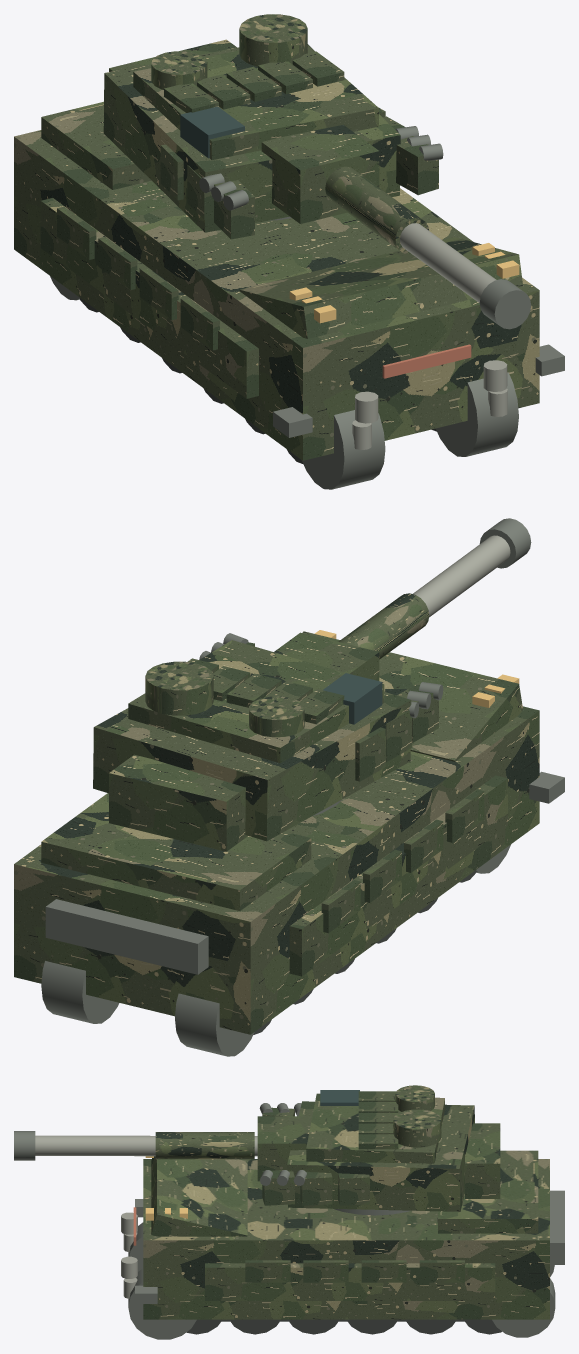
The picture shows the model from 3 angles, top to bottom: view 1: azimuth 30°, elevation 25°; view 2: azimuth 150°, elevation 25°; view 3: azimuth 270°, elevation 25°; orthographic projection. The views are drawn at different scales.
Visible parts, largest first — view 1: Armored hull / cast steel, Sloped glacis plate, Low-profile turret base, Turret roof armor, Side skirt / modular armor, Drive sprocket (×2), Gun mantlet, Relikt ERA roof tile (×5), Side reactive armor tile (×4), ERA block / turret cheek (×4), Rear engine deck, Thermal sleeve (+9 smaller); view 2: Armored hull / cast steel, Low-profile turret base, Rear engine deck, Rear bustle storage, Turret roof armor, Side skirt / modular armor, Sloped glacis plate, Exhaust heat shield, Idler wheel (×2), Side reactive armor tile (×4), Commander cupola, ERA block / turret cheek (×3) (+8 smaller); view 3: Armored hull / cast steel, Low-profile turret base, Side skirt / modular armor, Sloped glacis plate, Rear engine deck, Turret roof armor, Side reactive armor tile (×4), Road wheel / replaceable (×6), ERA block / turret cheek (×3), Thermal sleeve, 125 mm main gun, Rear bustle storage (+12 smaller).
Boxes of the visible parts, x1,y1,x2,y2 form: Armored hull / cast steel: (14, 130, 539, 460); Sloped glacis plate: (239, 237, 523, 338); Low-profile turret base: (103, 44, 400, 232); Turret roof armor: (133, 45, 378, 159); Side skirt / modular armor: (40, 198, 258, 398); Drive sprocket (×2): (301, 372, 518, 489); Gun mantlet: (261, 124, 379, 223); Relikt ERA roof tile (×5): (164, 51, 344, 112); Side reactive armor tile (×4): (57, 206, 219, 350); ERA block / turret cheek (×4): (160, 136, 438, 239); Rear engine deck: (41, 101, 151, 189); Thermal sleeve: (325, 166, 428, 254); Armored hull / cast steel: (14, 706, 539, 1034); Low-profile turret base: (93, 692, 411, 841); Rear engine deck: (41, 793, 311, 910); Rear bustle storage: (109, 754, 247, 851); Turret roof armor: (128, 640, 384, 763); Side skirt / modular armor: (289, 775, 507, 976); Sloped glacis plate: (302, 631, 522, 761); Exhaust heat shield: (45, 899, 208, 974); Idler wheel (×2): (41, 961, 254, 1056); Side reactive armor tile (×4): (321, 789, 484, 933); Commander cupola: (145, 661, 213, 715); ERA block / turret cheek (×3): (355, 683, 438, 781); Armored hull / cast steel: (143, 1159, 549, 1319); Low-profile turret base: (287, 1101, 474, 1211); Side skirt / modular armor: (205, 1263, 495, 1300); Sloped glacis plate: (151, 1156, 247, 1236); Rear engine deck: (438, 1150, 538, 1233); Turret roof armor: (306, 1093, 444, 1163); Side reactive armor tile (×4): (245, 1260, 464, 1282); Road wheel / replaceable (×6): (186, 1319, 501, 1334); ERA block / turret cheek (×3): (262, 1170, 369, 1205); Thermal sleeve: (155, 1132, 254, 1159); 125 mm main gun: (35, 1135, 257, 1156); Rear bustle storage: (465, 1123, 500, 1198).
Size of the model in its own units: 3.17 by 3.22 by 7.79.
7 materials, 1 textured.
